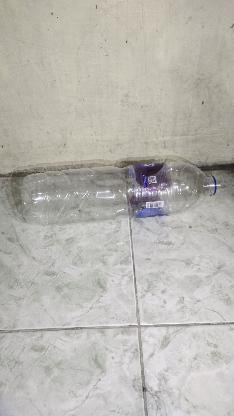Plastic Bottle: (21, 160, 222, 226)
